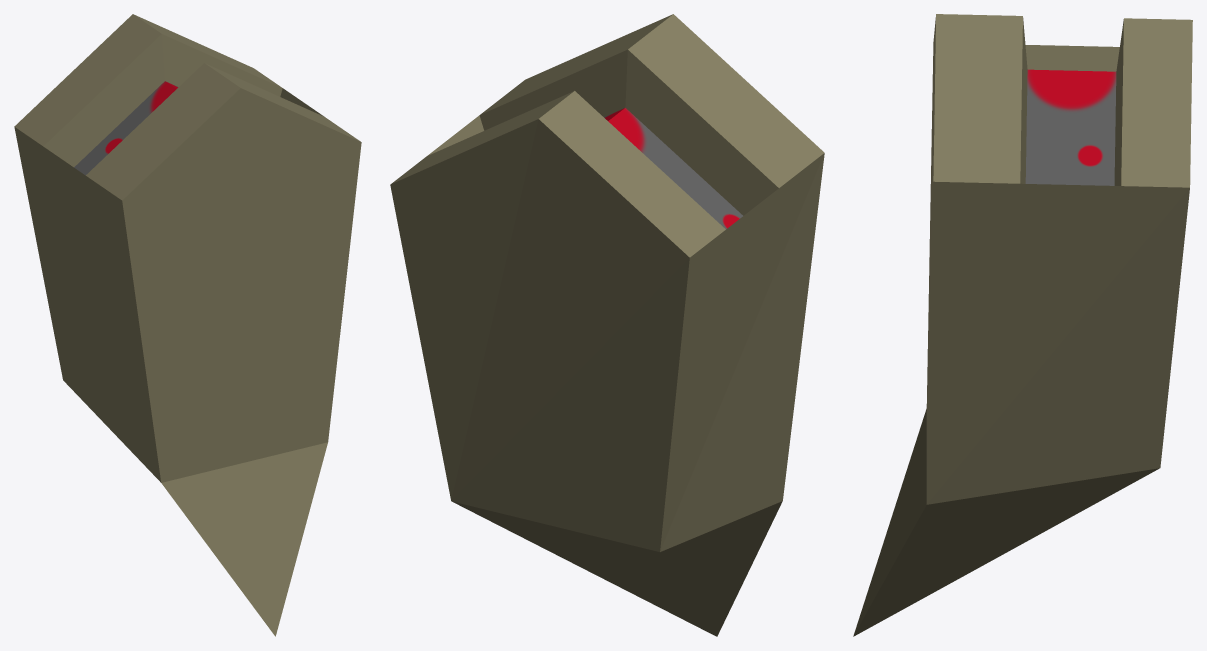
Rendered from head1.obj.
The picture shows the model from 3 angles, left to right: view 1: azimuth 30°, elevation 25°; view 2: azimuth 150°, elevation 25°; view 3: azimuth 270°, elevation 25°; orthographic projection. The views are drawn at different scales.
Visible parts, largest first — view 1: MechHead1; view 2: MechHead1; view 3: MechHead1.
Boxes of the visible parts, x1,y1,x2,y2 form: MechHead1: (14, 14, 361, 636); MechHead1: (390, 14, 824, 636); MechHead1: (853, 14, 1192, 636).
Bounding box in the file's own units: 1.53 × 3.2 × 1.58.
Materials: 1 (1 with a texture image).
